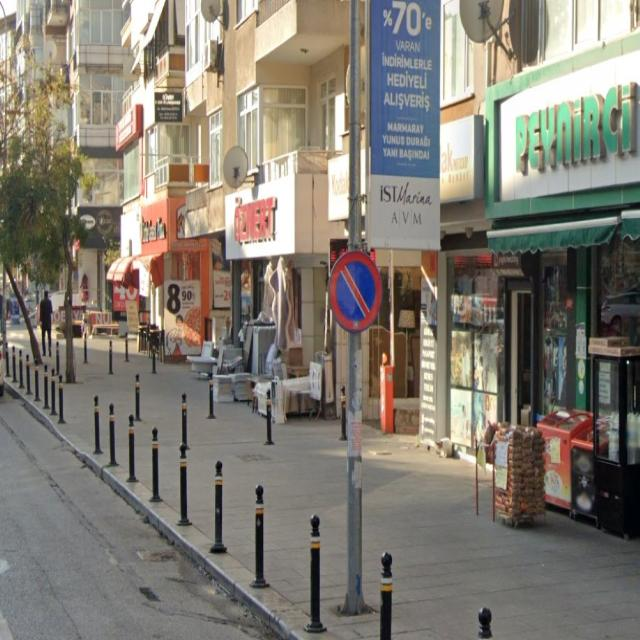parkyasak: (330, 250, 383, 333)
